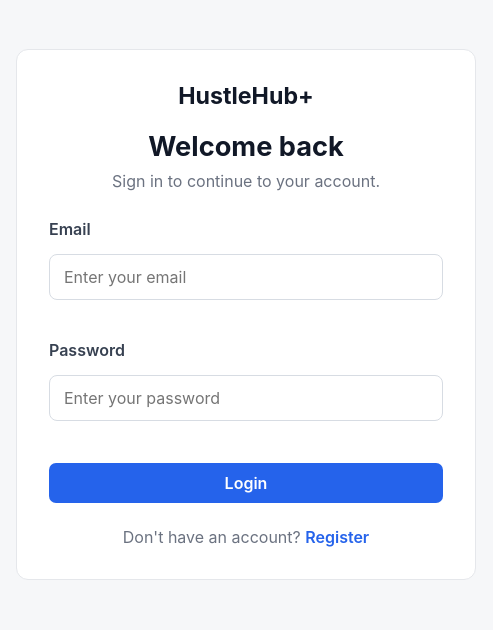
Test: Login › shows login error returned by API
Type "client@example.com" into the field labelled "Email" at (246, 276), box [49,254,443,300]
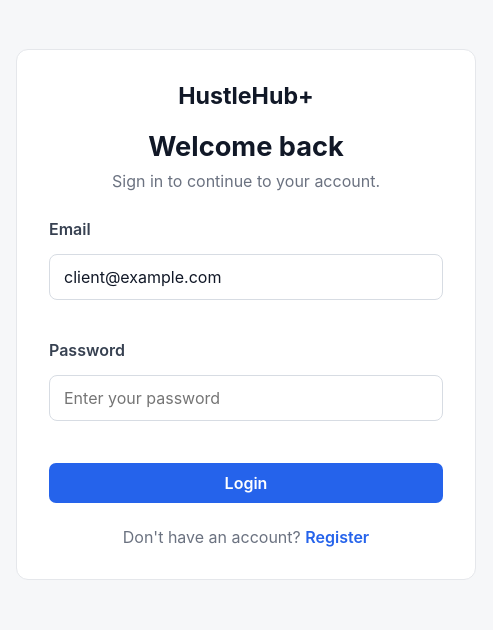
Type "WrongPassword123!" into the password field labelled "Password" at (246, 398), box [49,374,443,420]
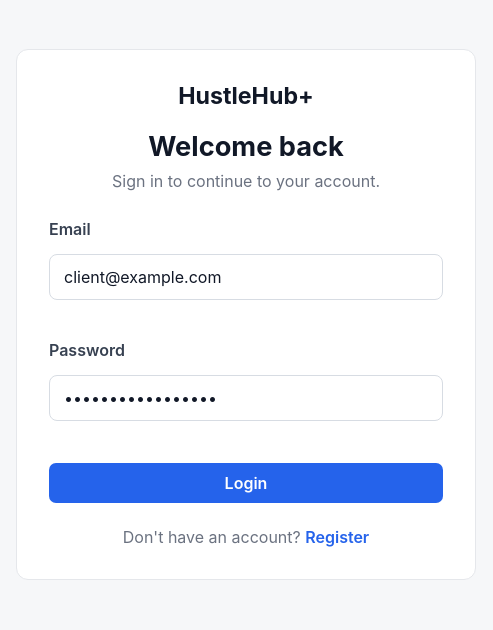
Click the button "Login" at (246, 482), box [49,462,443,502]
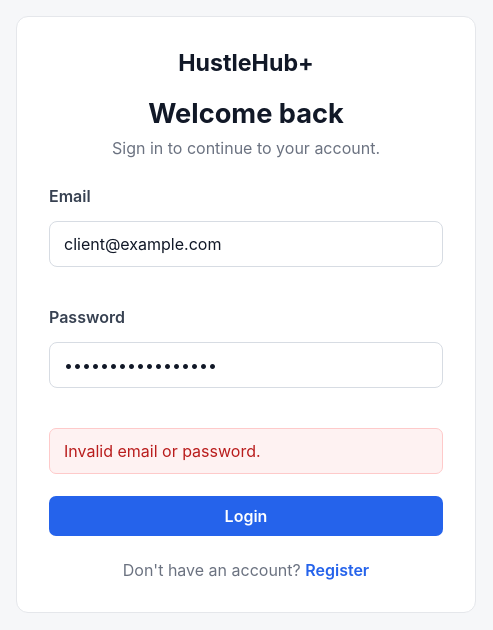
Now the message reads "Invalid email or password.", box [64,440,260,460]
